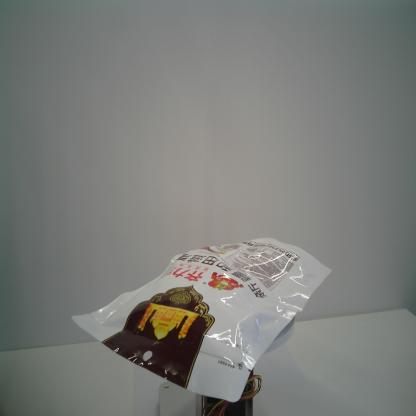Dried Food: (70, 233, 334, 404)
